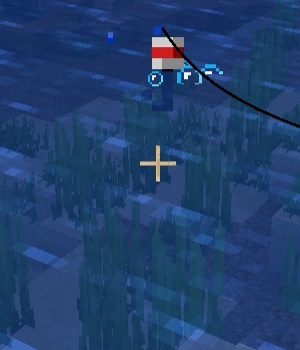up: (138, 21, 189, 109)
